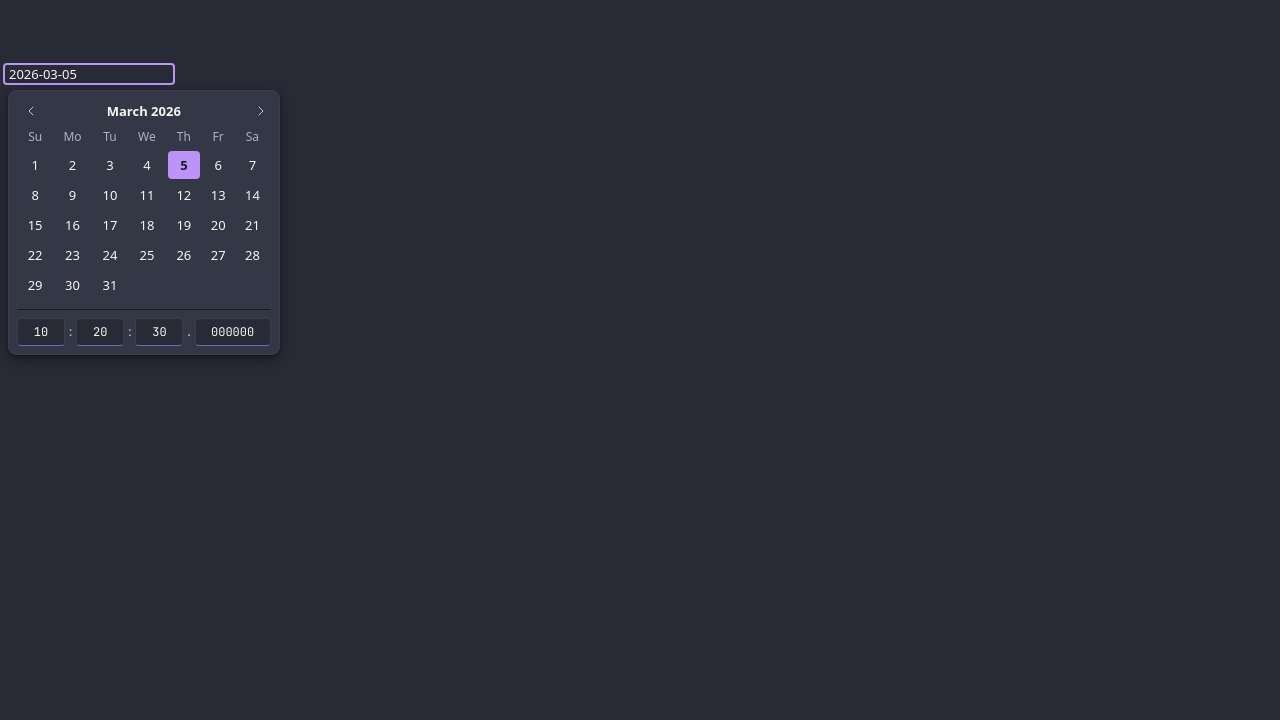
Test: timestamptz keeps its offset text when the picker changes the value
Click the cell named "Monday, March 9, 2026": (73, 195) [53, 181, 92, 209]
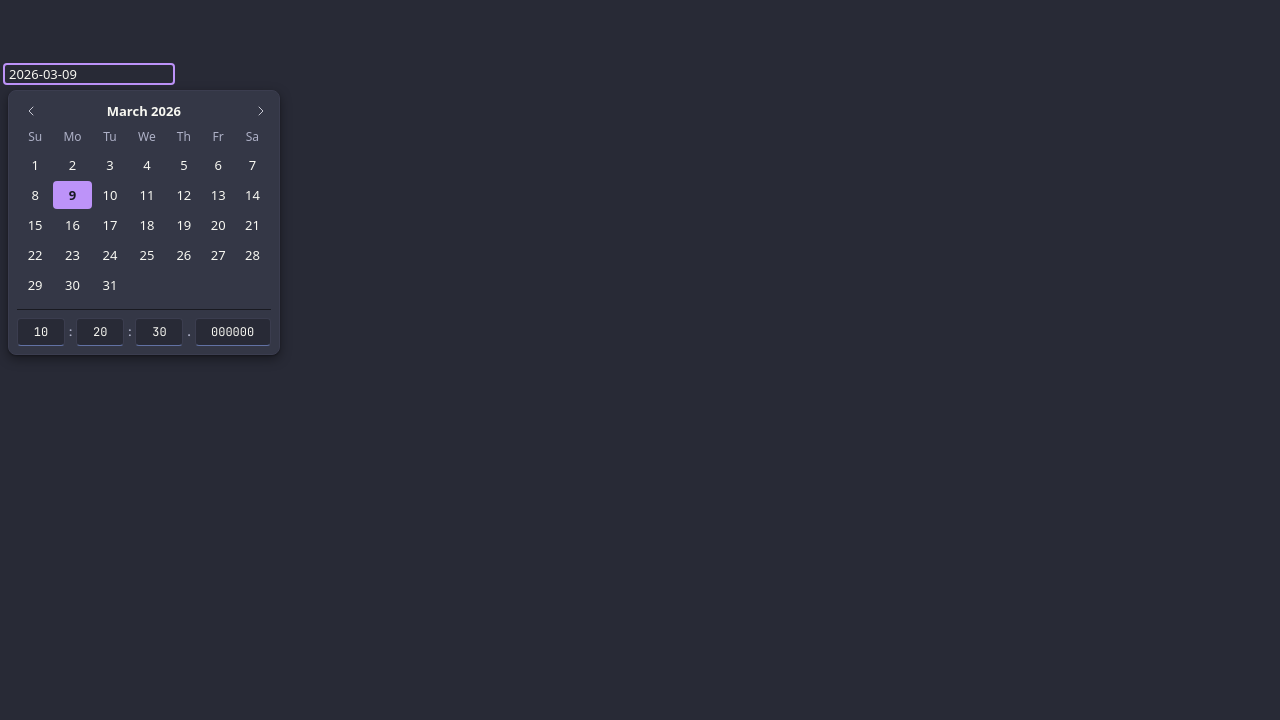
Expected: the text box named "Cell value" holds "2026-03-09 10:20:30+05:30", [3, 63, 175, 85]
